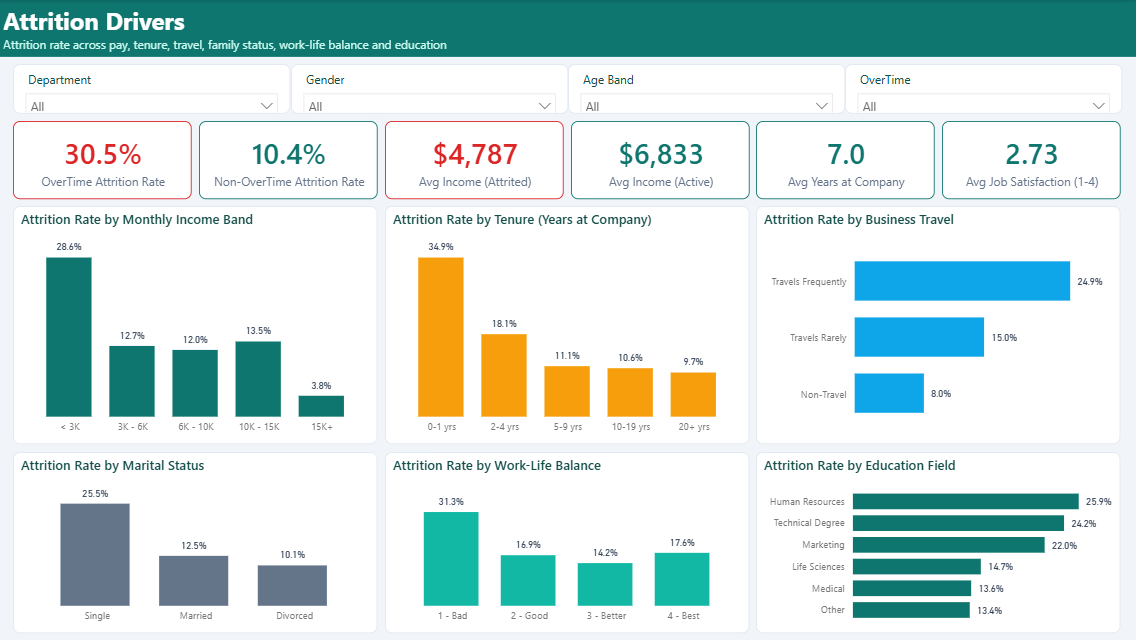

What the dashboard file says about the page in this screenshot:
{"tool":"powerbi","page":{"name":"Drivers","canvas":[1280,720],"ordinal":1},"visuals":[{"type":"textbox","box":[0,0,1280,64],"z":1000},{"type":"slicer","title":"Department","fields":{"Values":["HR.Department"]},"box":[16,72,312,56],"z":2000},{"type":"slicer","title":"Gender","fields":{"Values":["HR.Gender"]},"box":[328,72,312,56],"z":3000},{"type":"slicer","title":"Age Band","fields":{"Values":["HR.Age Band"]},"box":[640,72,312,56],"z":4000},{"type":"slicer","title":"OverTime","fields":{"Values":["HR.OverTime"]},"box":[952,72,312,56],"z":5000},{"type":"card","title":"OverTime Attrition Rate","fields":{"Values":["HR.Overtime Attrition Rate"]},"box":[16,136,201,88],"z":6000},{"type":"card","title":"Non-OverTime Attrition Rate","fields":{"Values":["HR.Non-Overtime Attrition Rate"]},"box":[225,136,201,88],"z":7000},{"type":"card","title":"Avg Income (Attrited)","fields":{"Values":["HR.Avg Income - Attrited"]},"box":[434,136,201,88],"z":8000},{"type":"card","title":"Avg Income (Active)","fields":{"Values":["HR.Avg Income - Active"]},"box":[643,136,201,88],"z":9000},{"type":"card","title":"Avg Years at Company","fields":{"Values":["HR.Avg Years at Company"]},"box":[852,136,201,88],"z":10000},{"type":"card","title":"Avg Job Satisfaction (1-4)","fields":{"Values":["HR.Avg Job Satisfaction"]},"box":[1061,136,201,88],"z":11000},{"type":"clusteredColumnChart","title":"Attrition Rate by Monthly Income Band","fields":{"Category":["HR.Income Band"],"Y":["HR.Attrition Rate %"]},"box":[16,232,410,268],"z":12000},{"type":"clusteredColumnChart","title":"Attrition Rate by Tenure (Years at Company)","fields":{"Category":["HR.Tenure Band"],"Y":["HR.Attrition Rate %"]},"box":[434,232,410,268],"z":13000},{"type":"clusteredBarChart","title":"Attrition Rate by Business Travel","fields":{"Category":["HR.Business Travel"],"Y":["HR.Attrition Rate %"]},"box":[852,232,410,268],"z":14000},{"type":"clusteredColumnChart","title":"Attrition Rate by Marital Status","fields":{"Category":["HR.MaritalStatus"],"Y":["HR.Attrition Rate %"]},"box":[16,508,410,204],"z":15000},{"type":"clusteredColumnChart","title":"Attrition Rate by Work-Life Balance","fields":{"Category":["HR.Work-Life Balance Level"],"Y":["HR.Attrition Rate %"]},"box":[434,508,410,204],"z":16000},{"type":"clusteredBarChart","title":"Attrition Rate by Education Field","fields":{"Category":["HR.EducationField"],"Y":["HR.Attrition Rate %"]},"box":[852,508,410,204],"z":17000}]}

Visuals, with their boxes in screenshot pixels (x1, y1, x2, y2), scaled from the page's 1280x720 canvas onto the 1136x640 screenshot:
textbox: Rect(0, 0, 1135, 57)
"Department" slicer: Rect(14, 64, 291, 114)
"Gender" slicer: Rect(291, 64, 568, 114)
"Age Band" slicer: Rect(568, 64, 845, 114)
"OverTime" slicer: Rect(845, 64, 1122, 114)
"OverTime Attrition Rate" card: Rect(14, 121, 193, 199)
"Non-OverTime Attrition Rate" card: Rect(200, 121, 378, 199)
"Avg Income (Attrited)" card: Rect(385, 121, 564, 199)
"Avg Income (Active)" card: Rect(571, 121, 749, 199)
"Avg Years at Company" card: Rect(756, 121, 935, 199)
"Avg Job Satisfaction (1-4)" card: Rect(942, 121, 1120, 199)
"Attrition Rate by Monthly Income Band" clusteredColumnChart: Rect(14, 206, 378, 444)
"Attrition Rate by Tenure (Years at Company)" clusteredColumnChart: Rect(385, 206, 749, 444)
"Attrition Rate by Business Travel" clusteredBarChart: Rect(756, 206, 1120, 444)
"Attrition Rate by Marital Status" clusteredColumnChart: Rect(14, 452, 378, 633)
"Attrition Rate by Work-Life Balance" clusteredColumnChart: Rect(385, 452, 749, 633)
"Attrition Rate by Education Field" clusteredBarChart: Rect(756, 452, 1120, 633)
